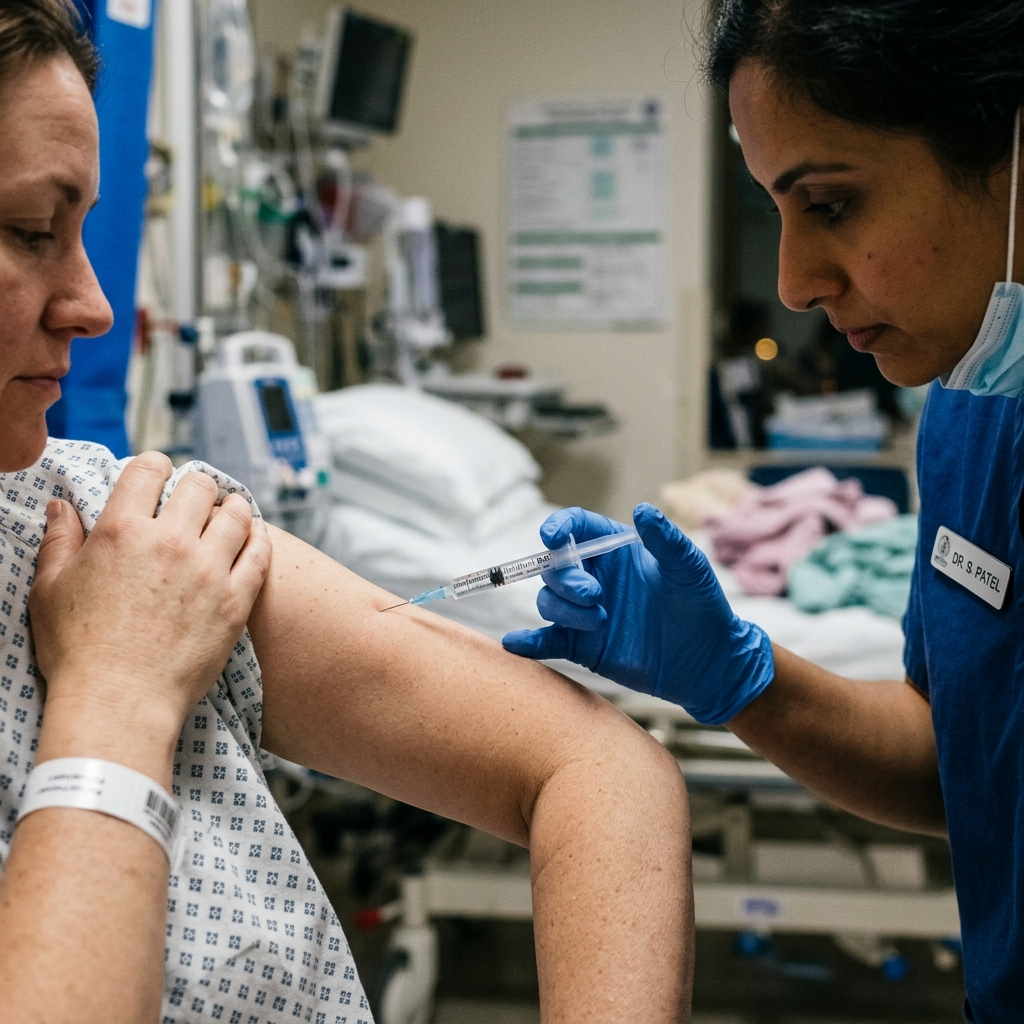Below 15 degrees: (307, 307, 717, 717)
